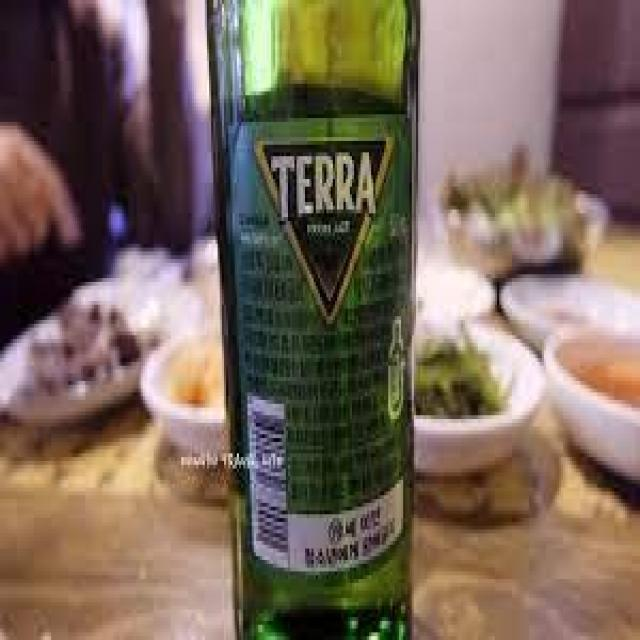beer-bottle: (198, 4, 420, 636)
